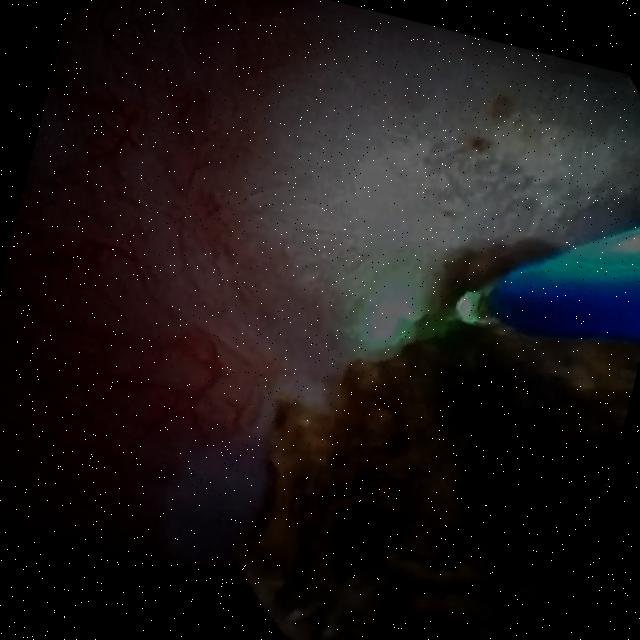laser-fibre: (458, 293, 493, 322)
laser_dot: (363, 282, 422, 344)
stone-new: (239, 240, 640, 640)
